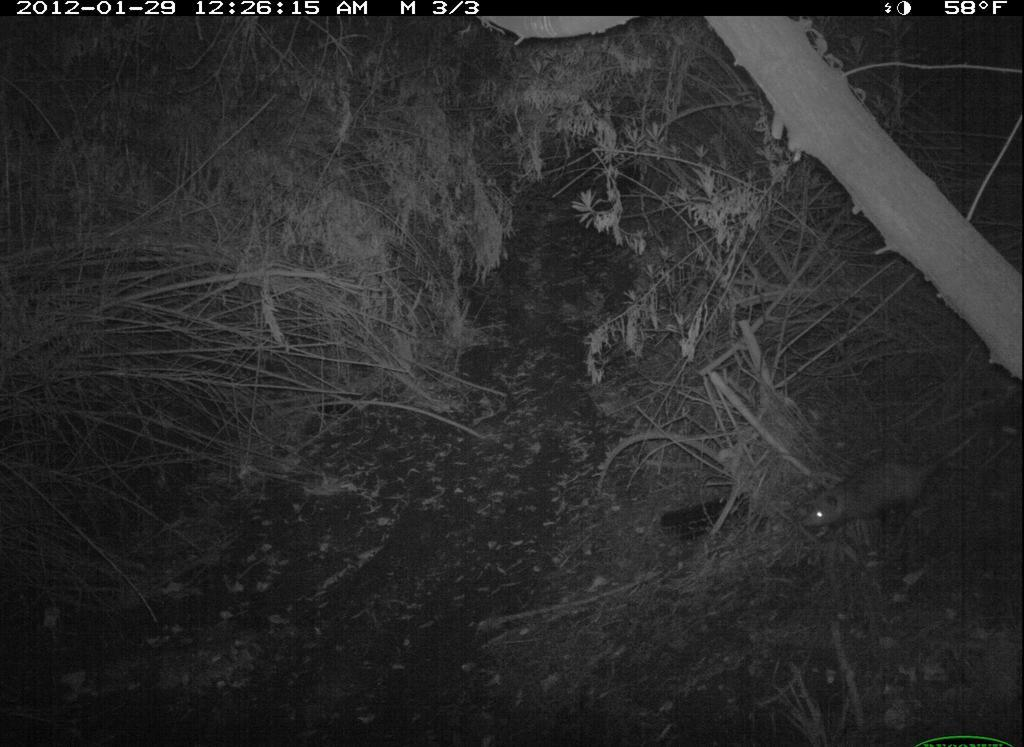opossum: (797, 422, 998, 542)
